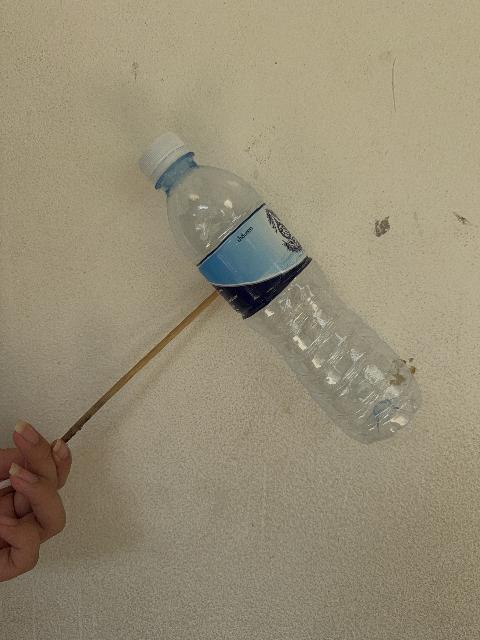bottle: (139, 134, 420, 443)
